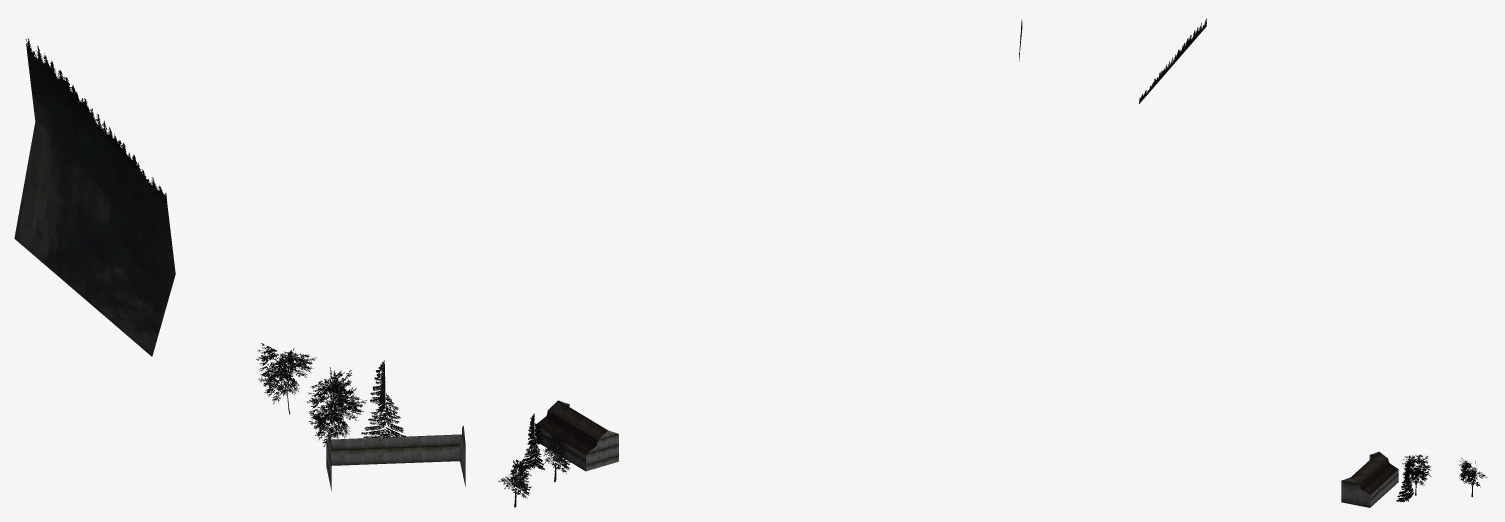
Rendered from cell_12_-13.gltf.
The picture shows the model from 3 angles, left to right: view 1: azimuth 30°, elevation 25°; view 2: azimuth 150°, elevation 25°; view 3: azimuth 270°, elevation 25°; orthographic projection. The views are drawn at different scales.
Parts seen in each view (by area): view 1: cell_12_-13; view 2: cell_12_-13; view 3: cell_12_-13.
Boxes of the visible parts, left/top/right/bottom form: cell_12_-13: left=14, top=38, right=465, bottom=491; cell_12_-13: left=498, top=19, right=1022, bottom=507; cell_12_-13: left=1139, top=18, right=1487, bottom=507.
Bounding box in the file's own units: 271 × 284 × 282.
Materials: 7 (7 with a texture image).
